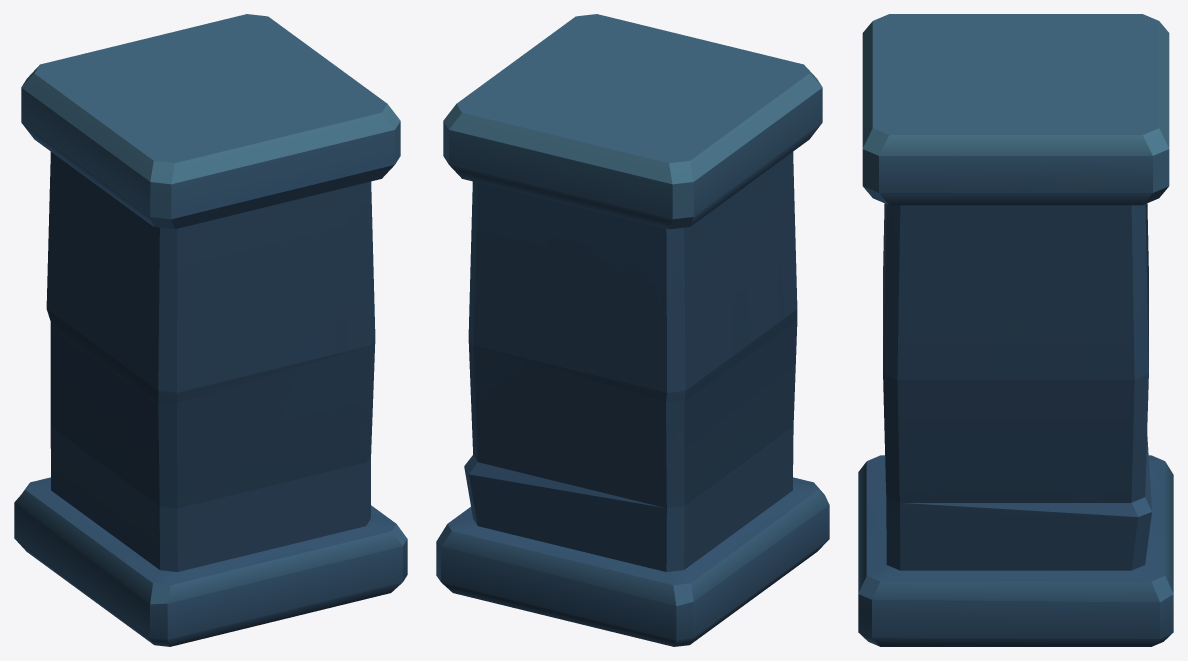
File: pillar_short_fat.fbx
The picture shows the model from 3 angles, left to right: view 1: azimuth 30°, elevation 25°; view 2: azimuth 150°, elevation 25°; view 3: azimuth 270°, elevation 25°; orthographic projection. The views are drawn at different scales.
Visible parts, largest first — view 1: pillar_short_fat; view 2: pillar_short_fat; view 3: pillar_short_fat.
Boxes of the visible parts, bbox=[...] form: pillar_short_fat: bbox=[14, 14, 407, 646]; pillar_short_fat: bbox=[436, 14, 829, 646]; pillar_short_fat: bbox=[858, 14, 1173, 646].
Bounding box in the file's own units: 116 × 206 × 115.
